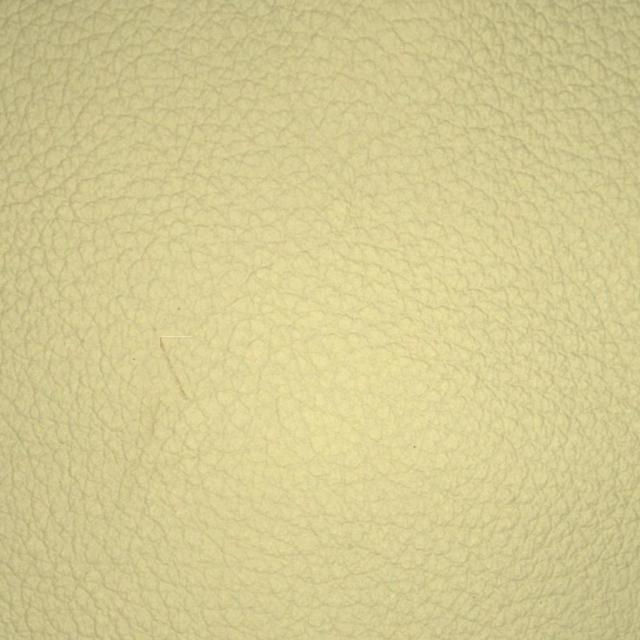Scratch: (102, 262, 263, 471)
